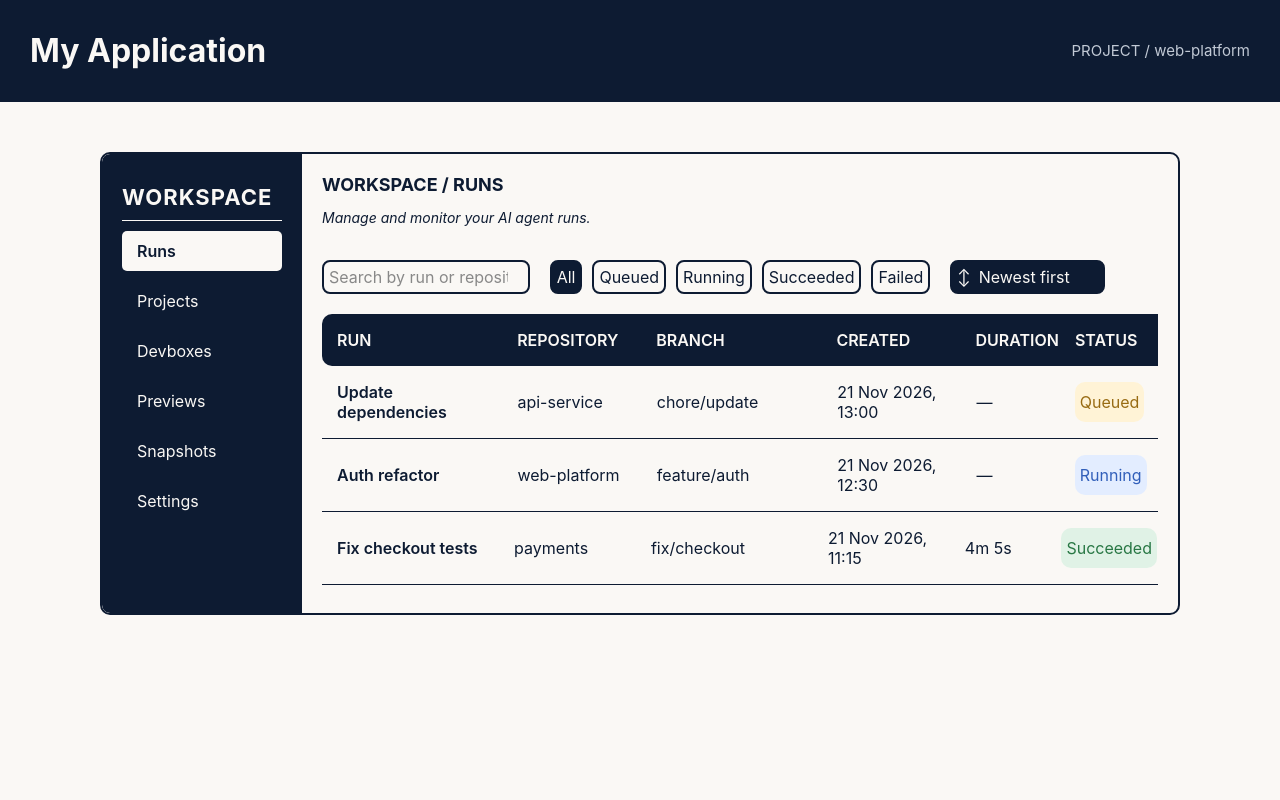
Test: App › shows an empty state when no runs match and resets filters
This screenshot has width=1280, height=800.
Check: the heading "Auth refactor" is shown, box [337,465,439,485]
Click the button "Failed": (901, 277) [871,260,930,294]
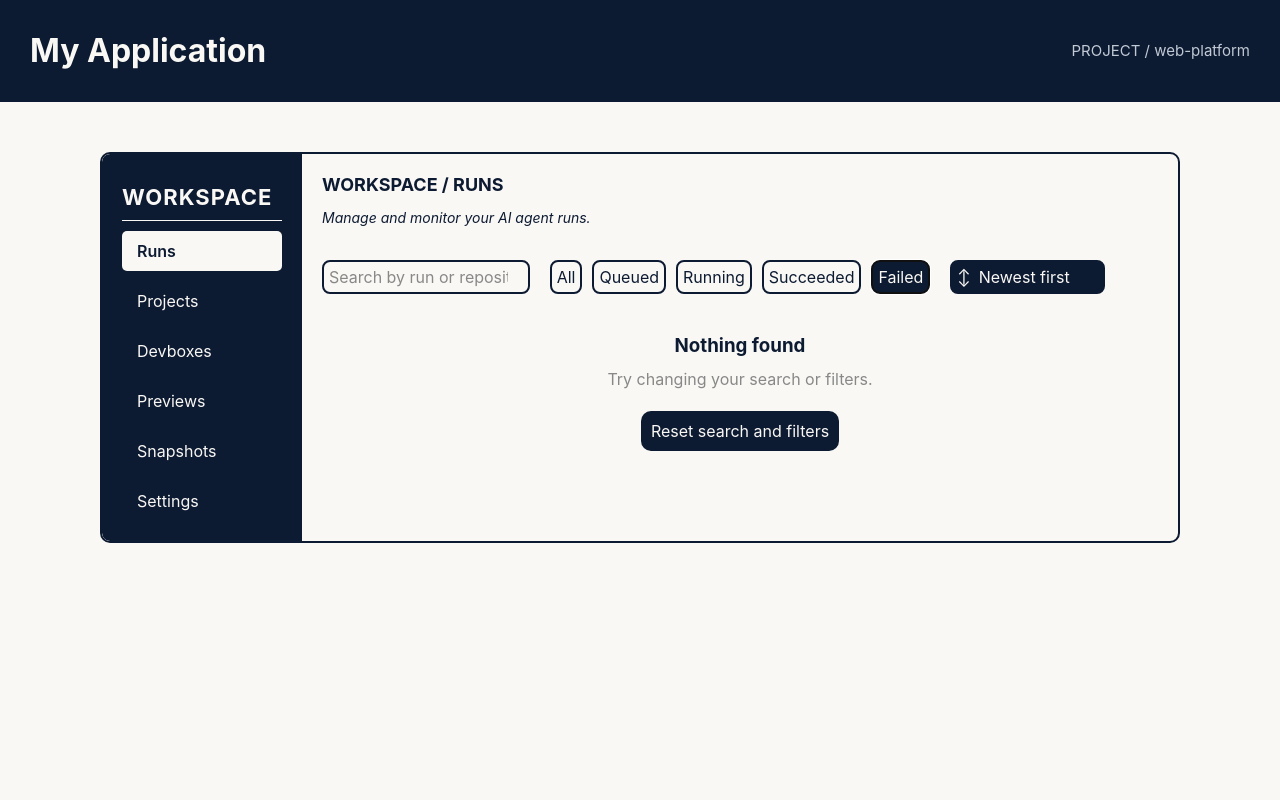
Check: the heading "Nothing found" is shown, box [675,334,805,357]
Check: the text "Try changing your search or filters." is shown, box [607,369,873,389]
Click the button "Reset search and filters": (740, 431) [641,411,839,451]
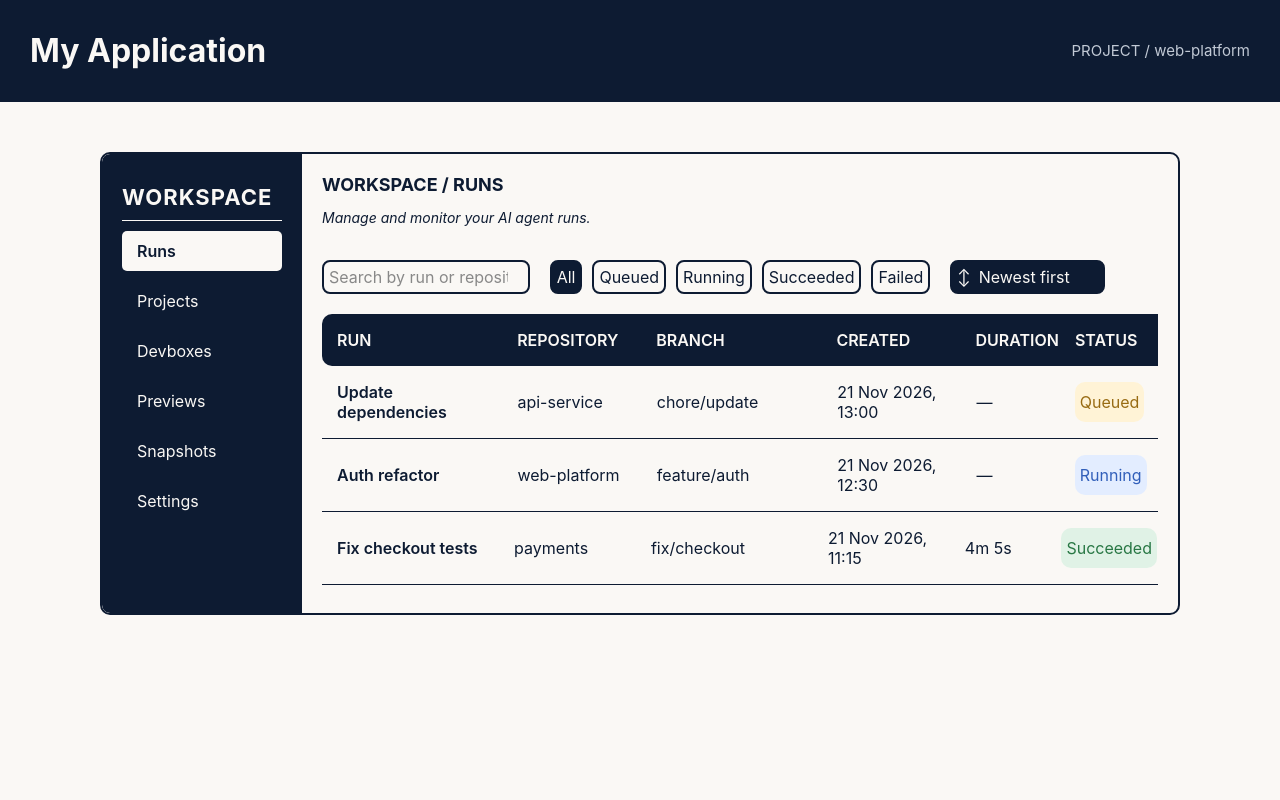
Check: the heading "Auth refactor" is shown, box [337,465,439,485]
Check: the heading "Fix checkout tests" is shown, box [337,538,498,558]
Check: the heading "Update dependencies" is shown, box [337,382,447,422]
